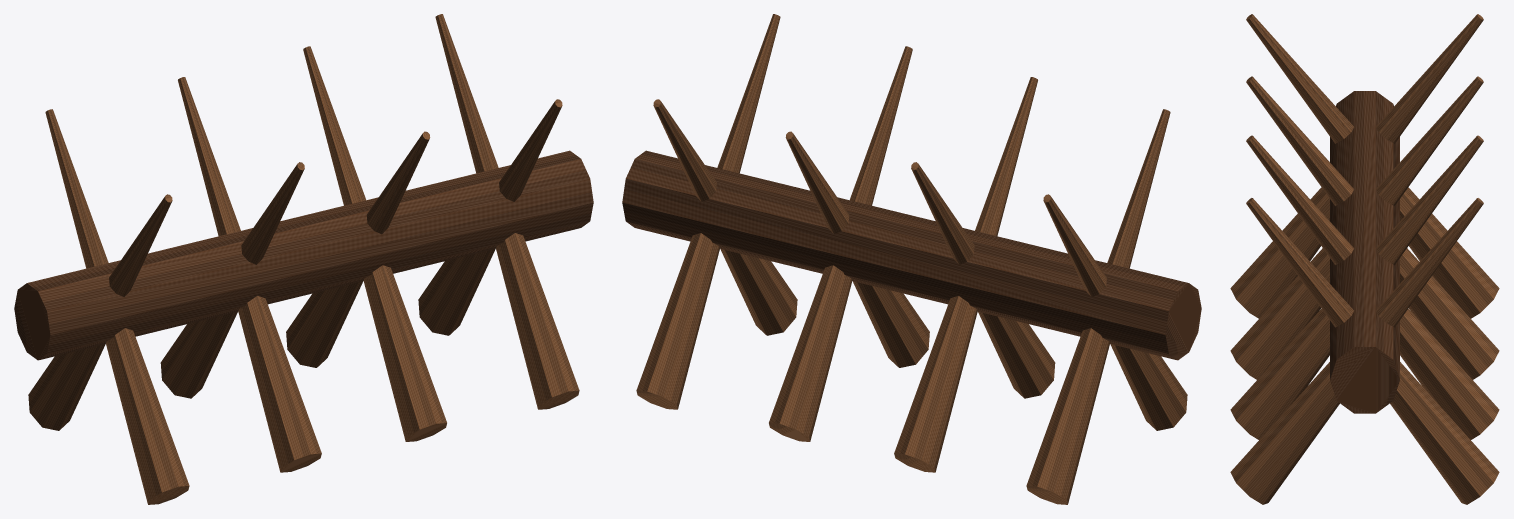
The model's file is cheval.glb.
3 renders of one model, left to right at view 1: azimuth 30°, elevation 25°; view 2: azimuth 150°, elevation 25°; view 3: azimuth 270°, elevation 25°, orthographic. The views are drawn at different scales.
Visible parts, largest first — view 1: Cylinder; view 2: Cylinder; view 3: Cylinder.
Boxes of the visible parts, box(x1,y1,x2,y2) form: Cylinder: box(14, 14, 593, 504); Cylinder: box(622, 14, 1201, 504); Cylinder: box(1230, 14, 1499, 504).
Size of the model in its own units: 0.81 by 0.45 by 0.36.
Materials: 1 (1 with a texture image).
